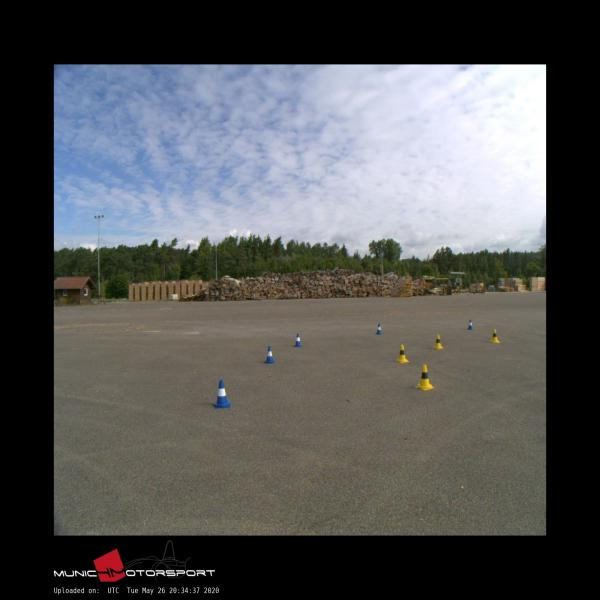blue_cone: (213, 380, 230, 408), (264, 346, 274, 363), (294, 333, 302, 346), (376, 323, 382, 334), (468, 320, 473, 330)
yellow_cone: (414, 364, 434, 390), (396, 344, 409, 363), (432, 334, 443, 349), (490, 328, 498, 342)
